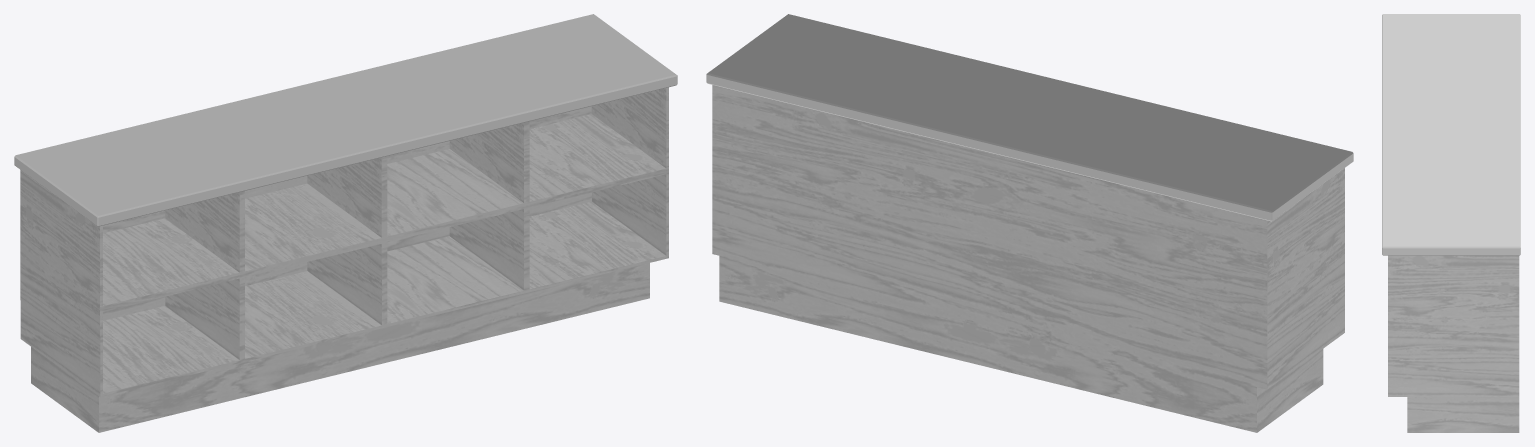
Rendered from CounterTopMesh_bbe7f5b5.obj.
3 renders of one model, left to right at view 1: azimuth 30°, elevation 25°; view 2: azimuth 150°, elevation 25°; view 3: azimuth 270°, elevation 25°, orthographic. The views are drawn at different scales.
Visible parts, largest first — view 1: CounterTopMesh_bbe7f5b5; view 2: CounterTopMesh_bbe7f5b5; view 3: CounterTopMesh_bbe7f5b5.
Part boxes in pixels (<box>): CounterTopMesh_bbe7f5b5: <box>14,14,677,432</box>; CounterTopMesh_bbe7f5b5: <box>706,14,1353,432</box>; CounterTopMesh_bbe7f5b5: <box>1382,14,1520,432</box>.
Size of the model in its own units: 2.11 by 0.8041 by 0.5294.
